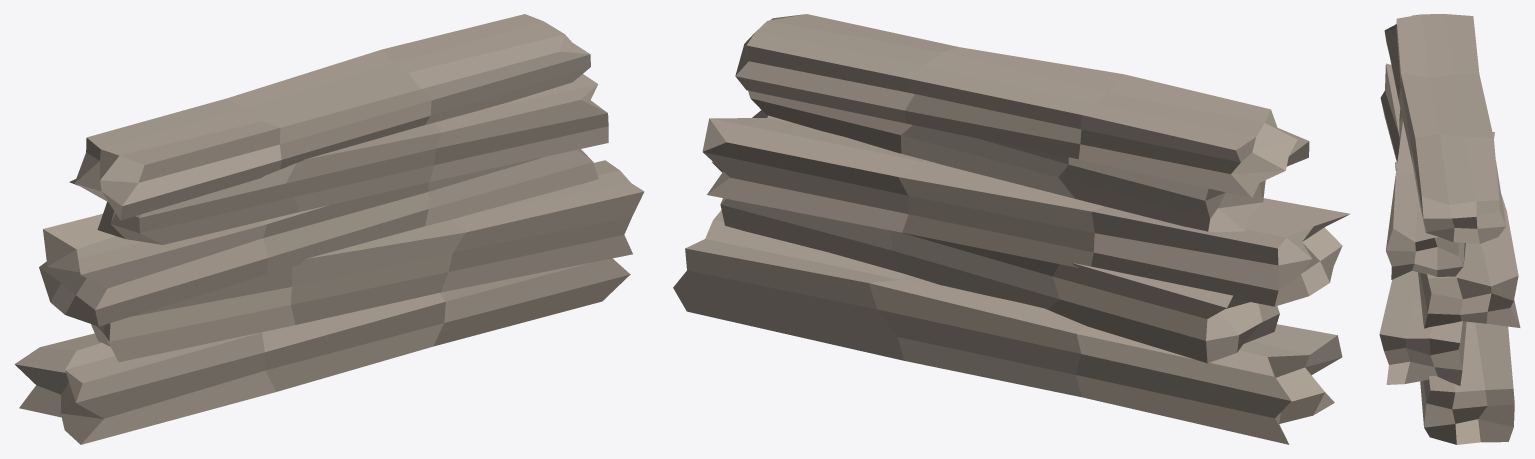
File: SM_Cliff_Rear.fbx
3 renders of one model, left to right at view 1: azimuth 30°, elevation 25°; view 2: azimuth 150°, elevation 25°; view 3: azimuth 270°, elevation 25°, orthographic. The views are drawn at different scales.
Parts seen in each view (by area): view 1: SM_Cliff_Rear; view 2: SM_Cliff_Rear; view 3: SM_Cliff_Rear.
Boxes of the visible parts, box(x1,y1,x2,y2) form: SM_Cliff_Rear: box(14, 14, 644, 444); SM_Cliff_Rear: box(673, 14, 1350, 444); SM_Cliff_Rear: box(1379, 14, 1520, 444).
Size of the model in its own units: 3.11 by 12.31 by 5.52.
